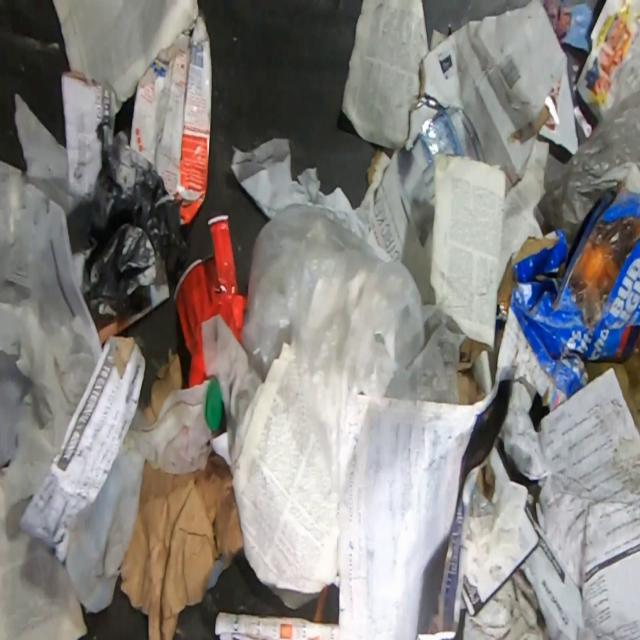cardboard: (366, 4, 566, 306), (495, 162, 639, 415), (127, 7, 213, 230)
rigid_plastic: (174, 214, 248, 389)
soft_plastic: (242, 203, 462, 495), (532, 77, 640, 530), (80, 126, 192, 316), (0, 160, 101, 354), (469, 483, 503, 517)
